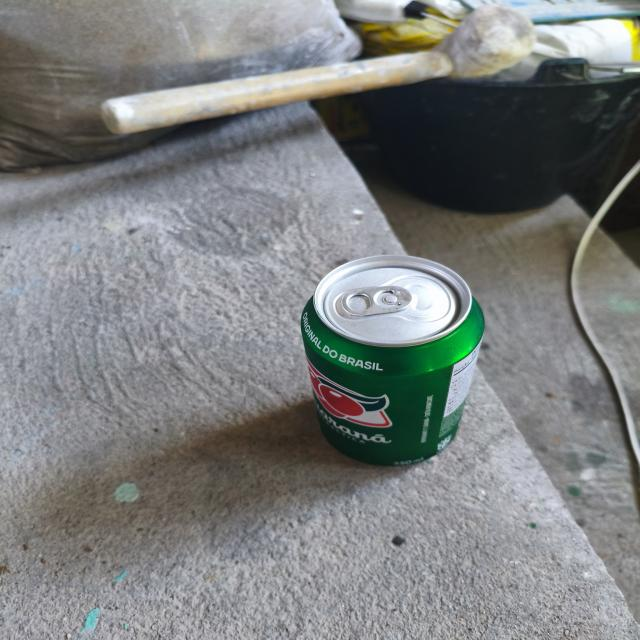Guarana: (308, 245, 485, 477)
